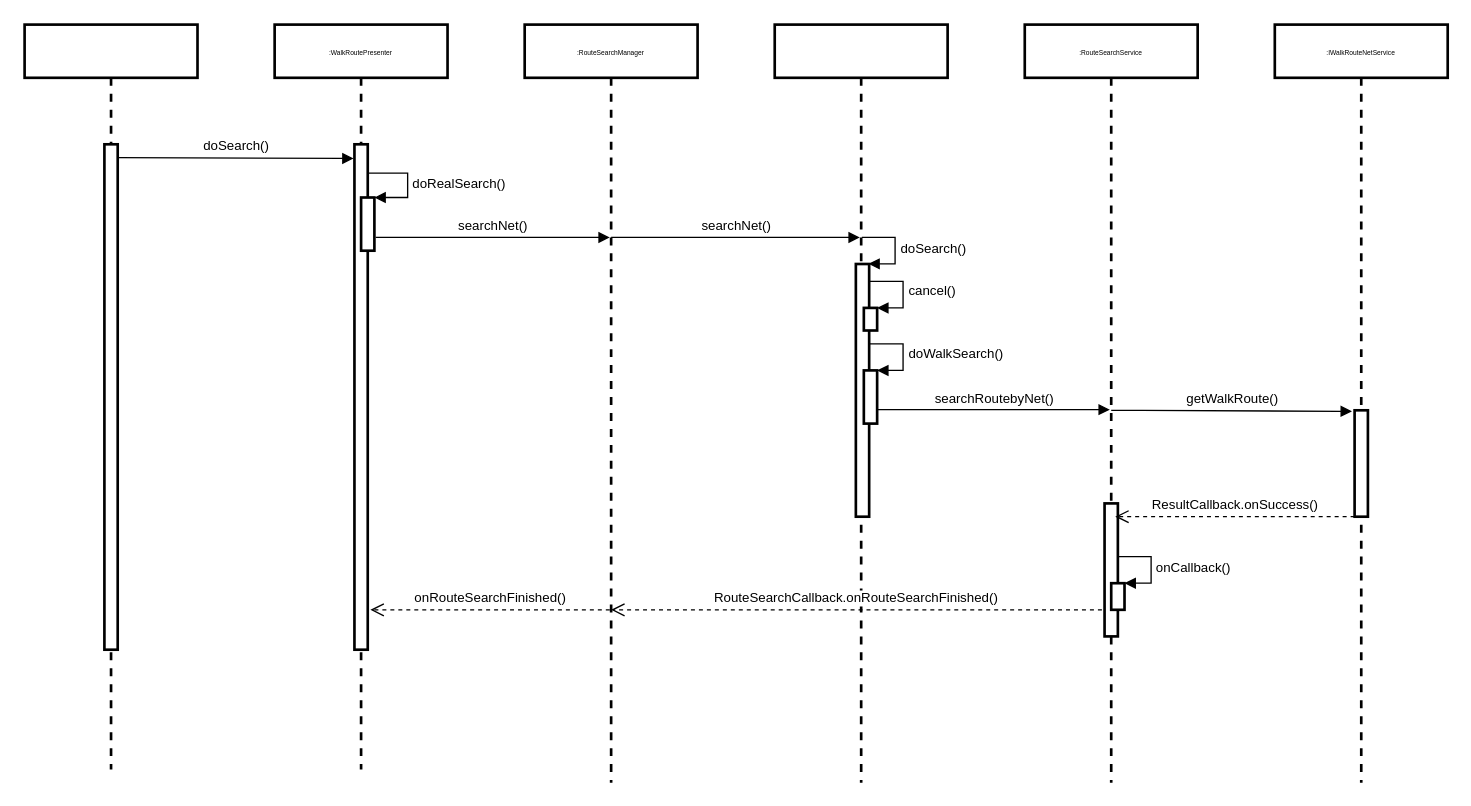
Some shapes in this 1471 by 806 pixel diagram are drawn without their labels. The shapes that lost their labels are listed below. From the top down, each one's box as (x1, y1, x2, y2) in pixels, then its label:
(23, 23, 198, 770): :MapStateTabRoute
(773, 23, 948, 783): :RouteSearcher
